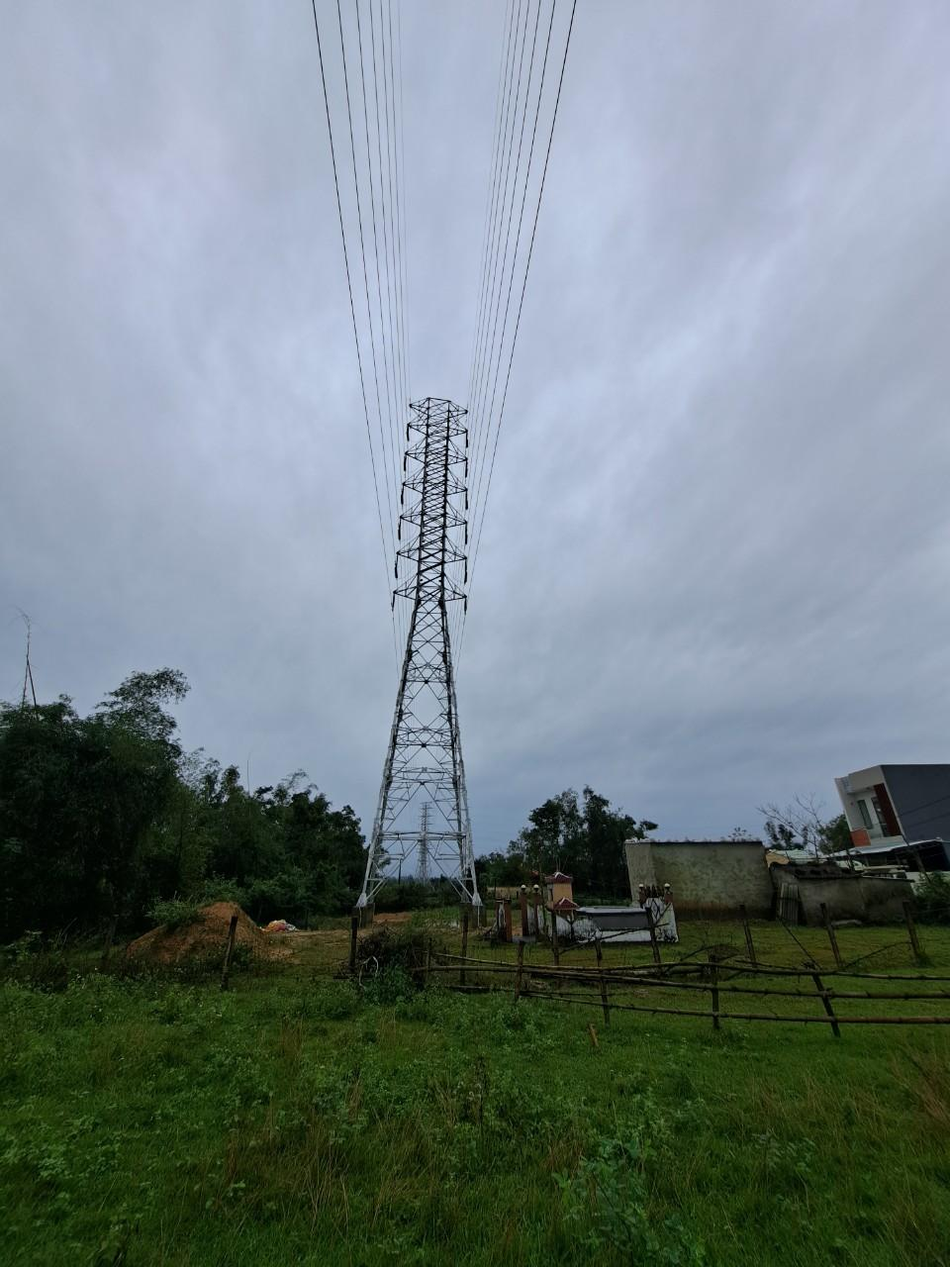power_tower: (356, 382, 495, 911)
